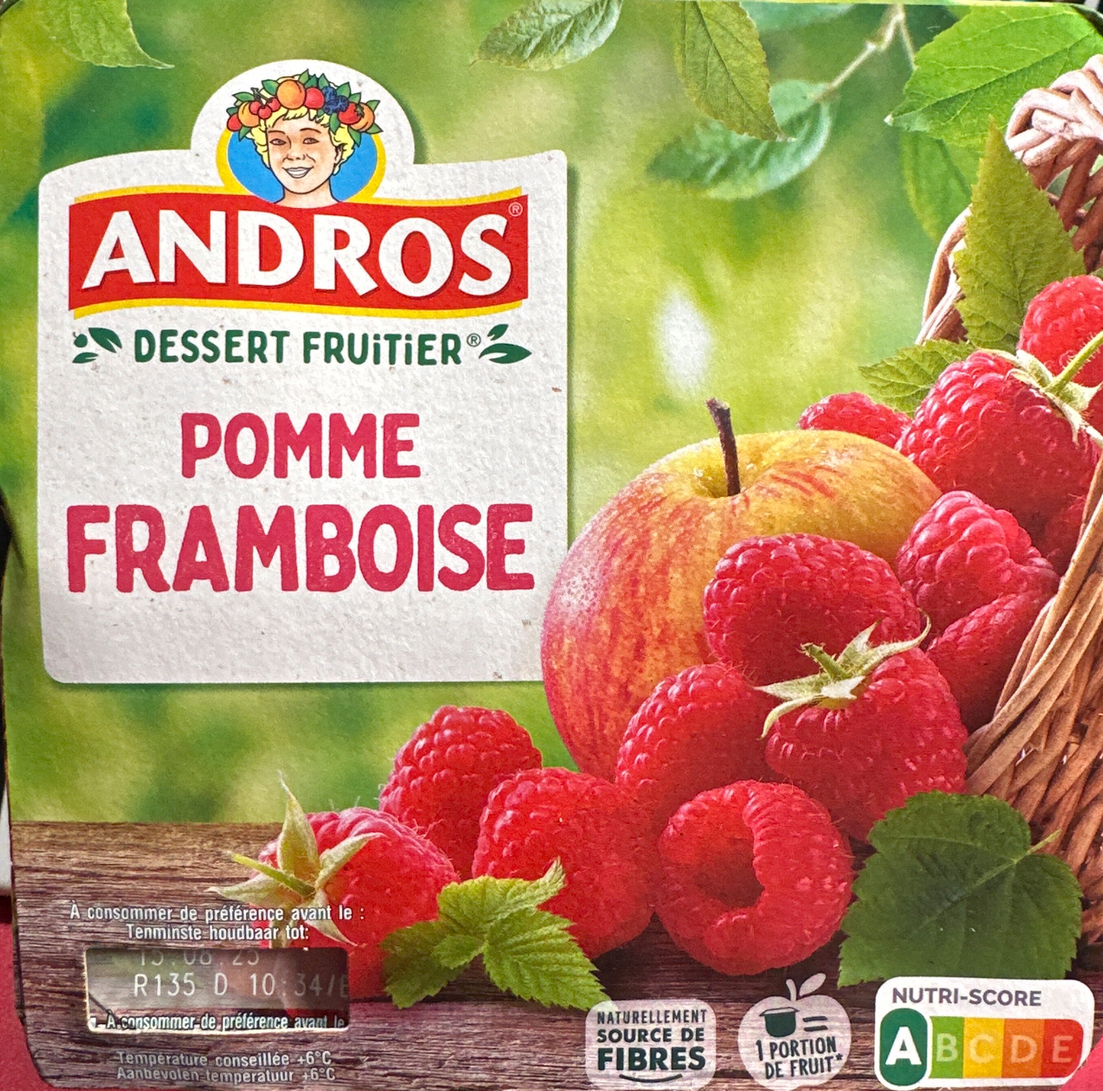Compotes Pomme Framboise: (55, 55, 1048, 1036)
